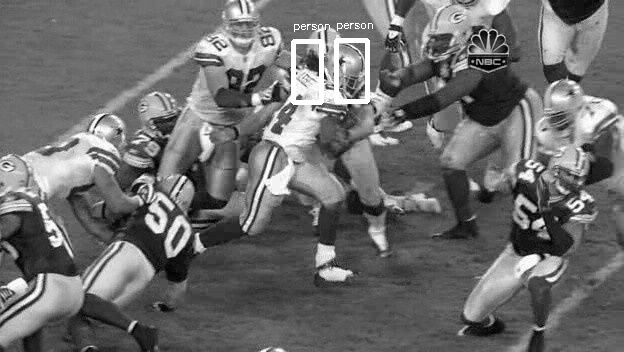person: (329, 47, 364, 91), (328, 47, 363, 91), (330, 47, 365, 91), (329, 46, 364, 90), (329, 48, 364, 92)
target_negative: (331, 3, 483, 184), (236, 91, 586, 158), (491, 148, 590, 315), (348, 156, 435, 255), (204, 273, 334, 298), (392, 149, 568, 160)
